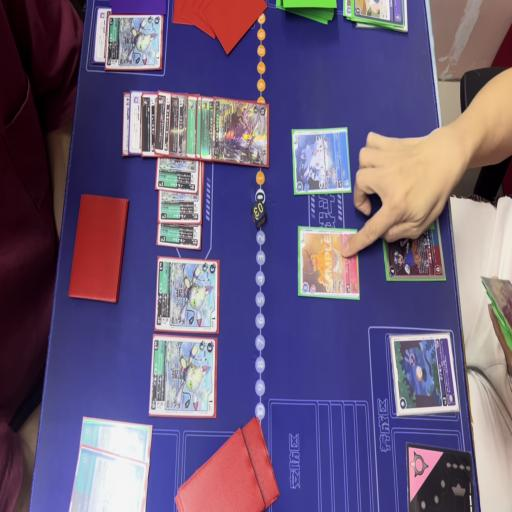card: (386, 330, 459, 424), (147, 333, 219, 419), (69, 444, 150, 512), (153, 258, 220, 333), (384, 208, 446, 287), (288, 122, 352, 196), (297, 224, 361, 297), (77, 414, 153, 472), (108, 12, 172, 74), (212, 101, 270, 165), (153, 148, 203, 194), (155, 192, 202, 226), (90, 4, 116, 64), (354, 0, 406, 27), (154, 92, 174, 160), (168, 92, 187, 162), (156, 222, 204, 249), (142, 85, 159, 159), (185, 92, 201, 162), (119, 90, 134, 164), (130, 88, 144, 160), (200, 96, 214, 162)
